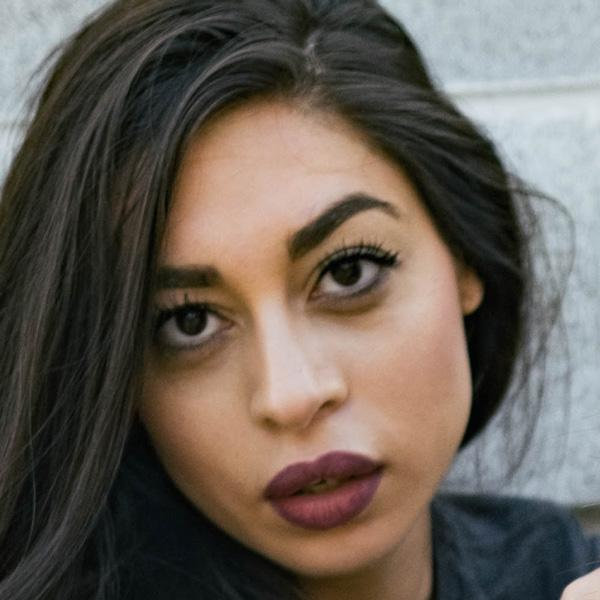Eyes: (300, 234, 404, 313), (141, 291, 246, 359)
